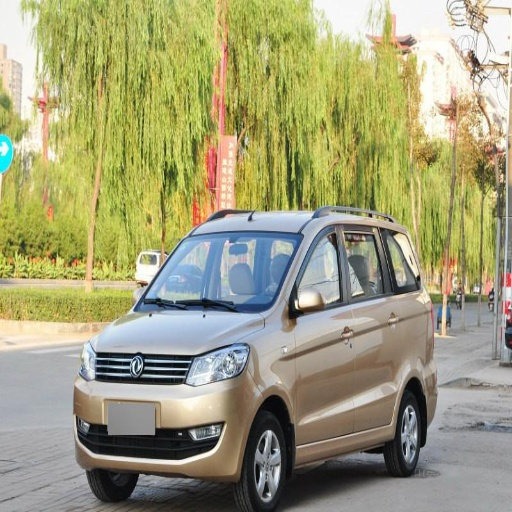front_bumper: (71, 352, 257, 478)
front_glass: (137, 232, 303, 311)
front_left_door: (290, 223, 355, 445)
